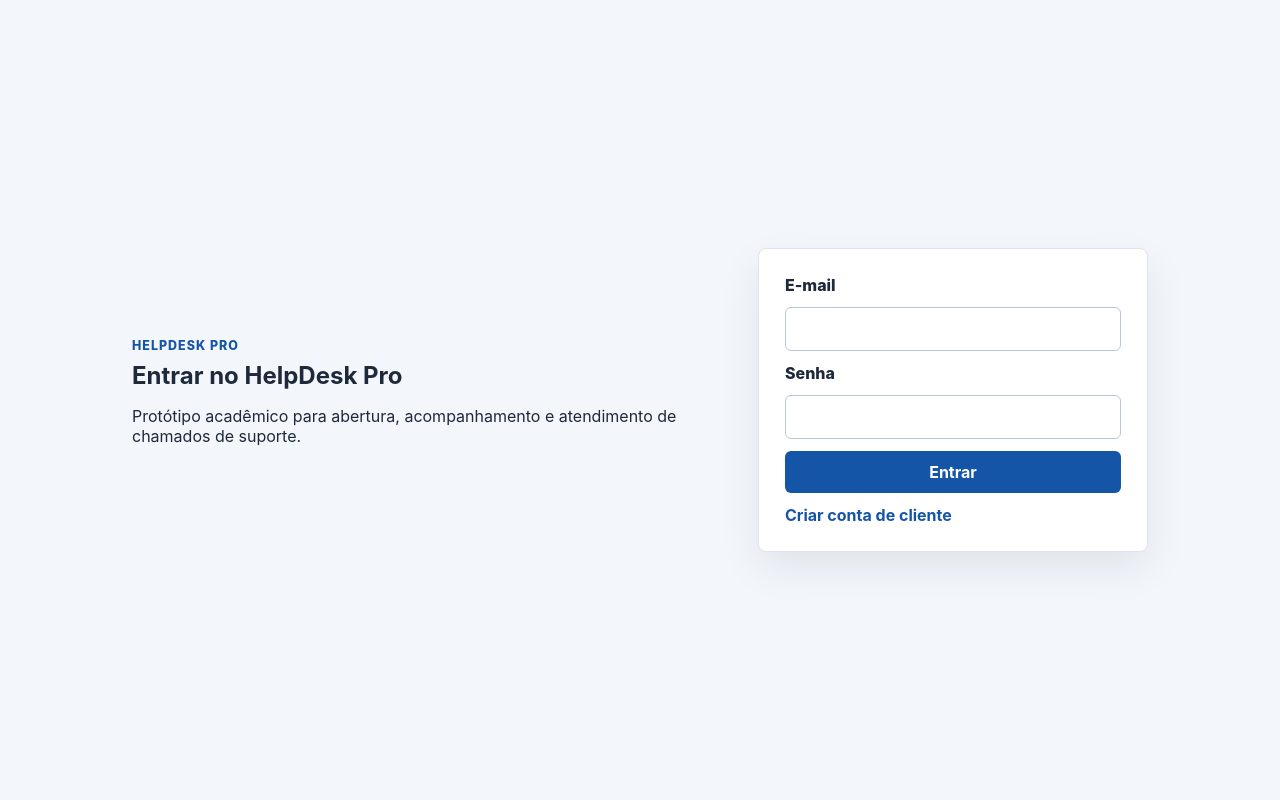
it: HelpDesk Pro - Casos de Teste › CT008 - Logout do sistema
In the field with id "email": (953, 329) [785,307,1121,351], type "cliente@teste.com"
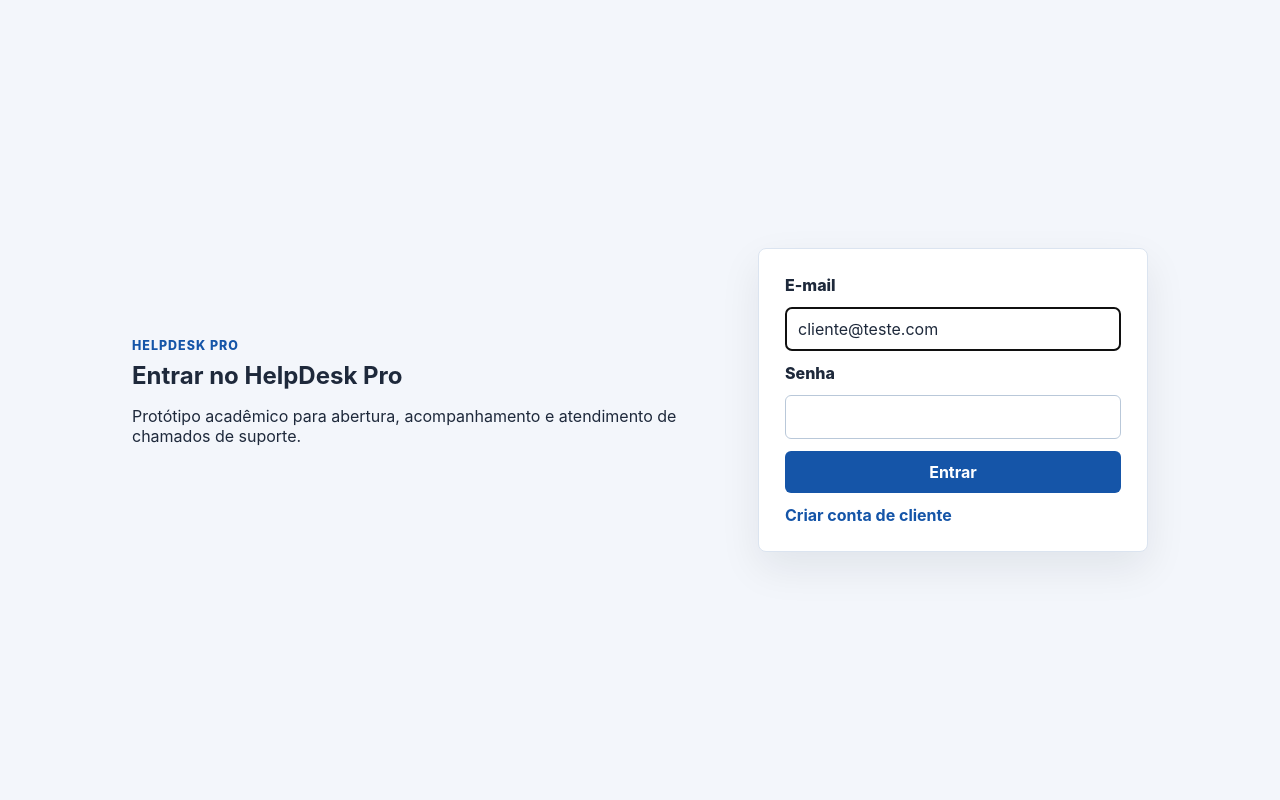
In the password field labelled "Senha": (953, 417) [785,395,1121,439], type "123456"
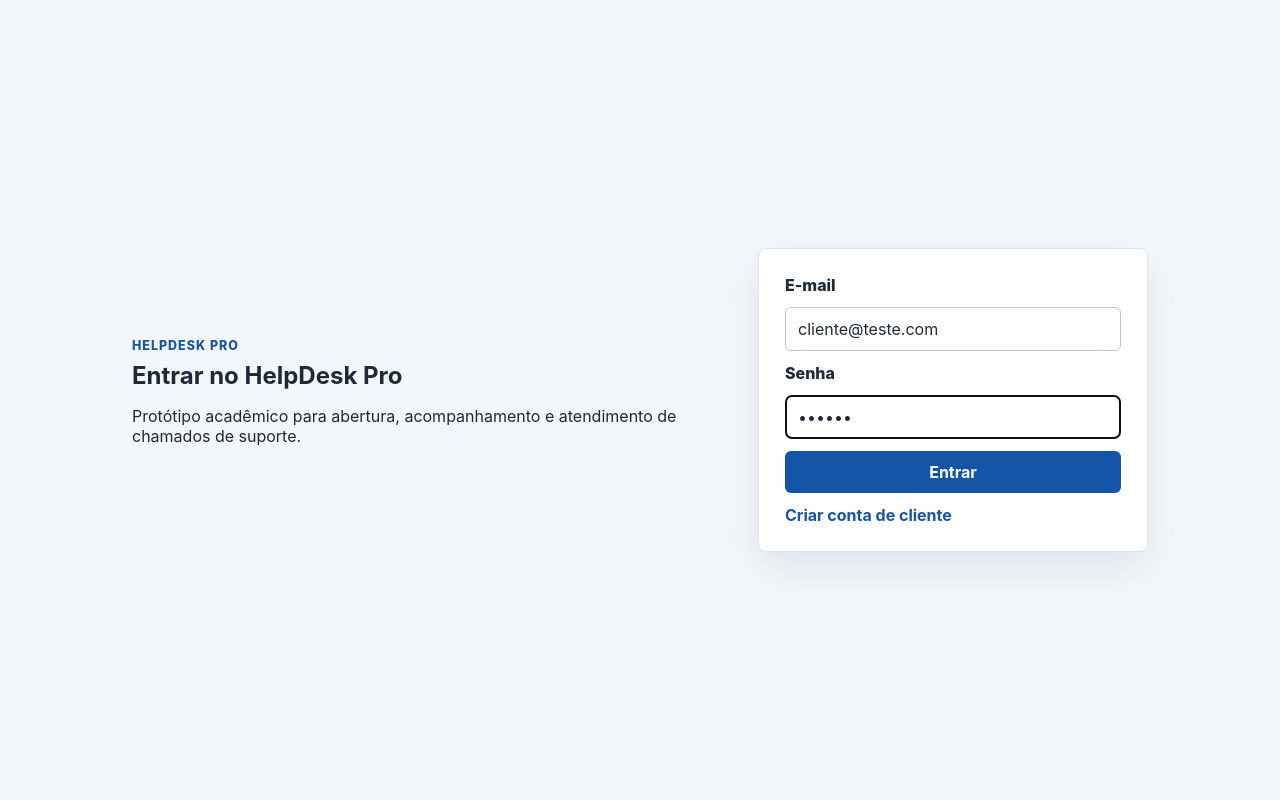
Click the button "Entrar": click(953, 472) [785,451,1121,493]
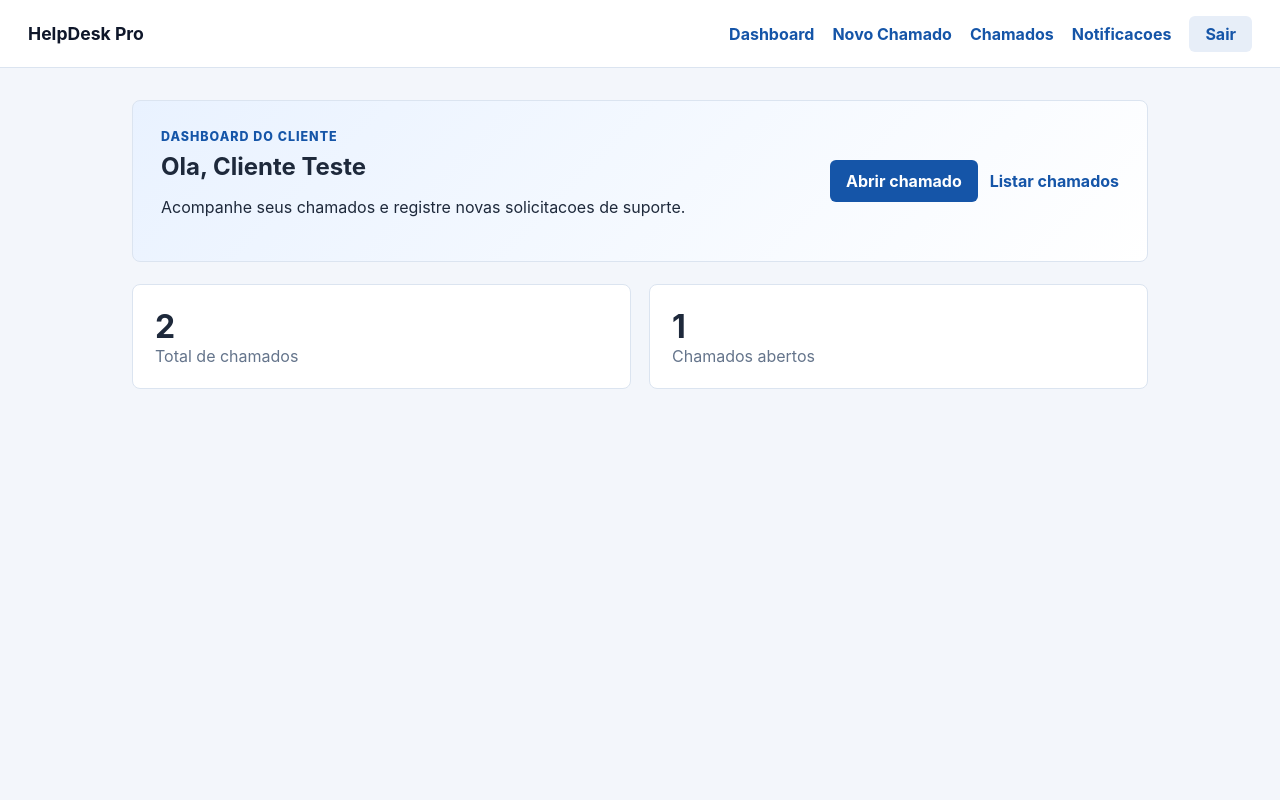
Click the button "Sair": click(1221, 34) [1189,16,1252,52]
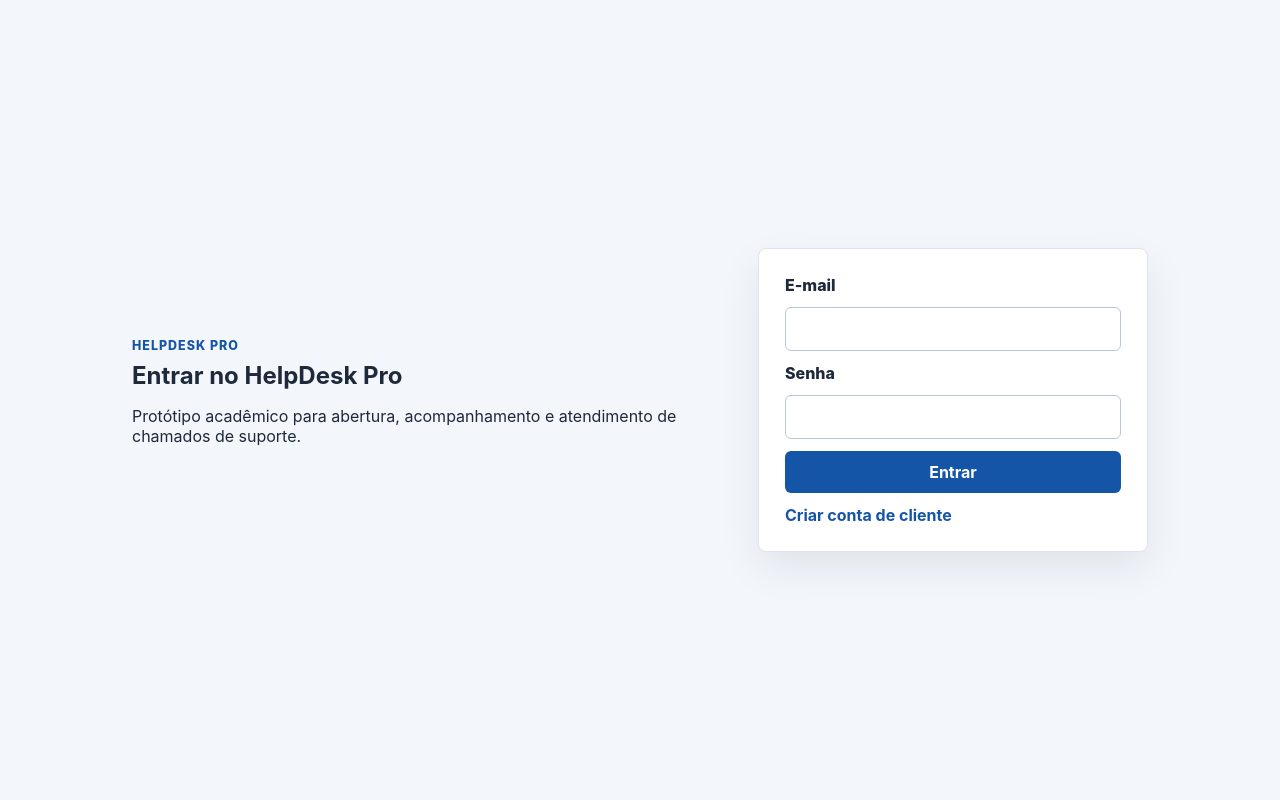
Check: the heading "Entrar no HelpDesk Pro" is shown, box [132,361,402,390]
